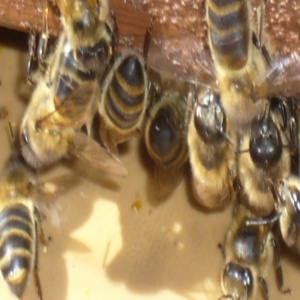bee: (1, 157, 44, 300), (219, 216, 290, 300), (241, 109, 290, 212), (102, 51, 147, 159), (148, 85, 187, 189), (206, 1, 250, 71)
